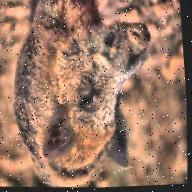boar: (0, 0, 163, 191)
